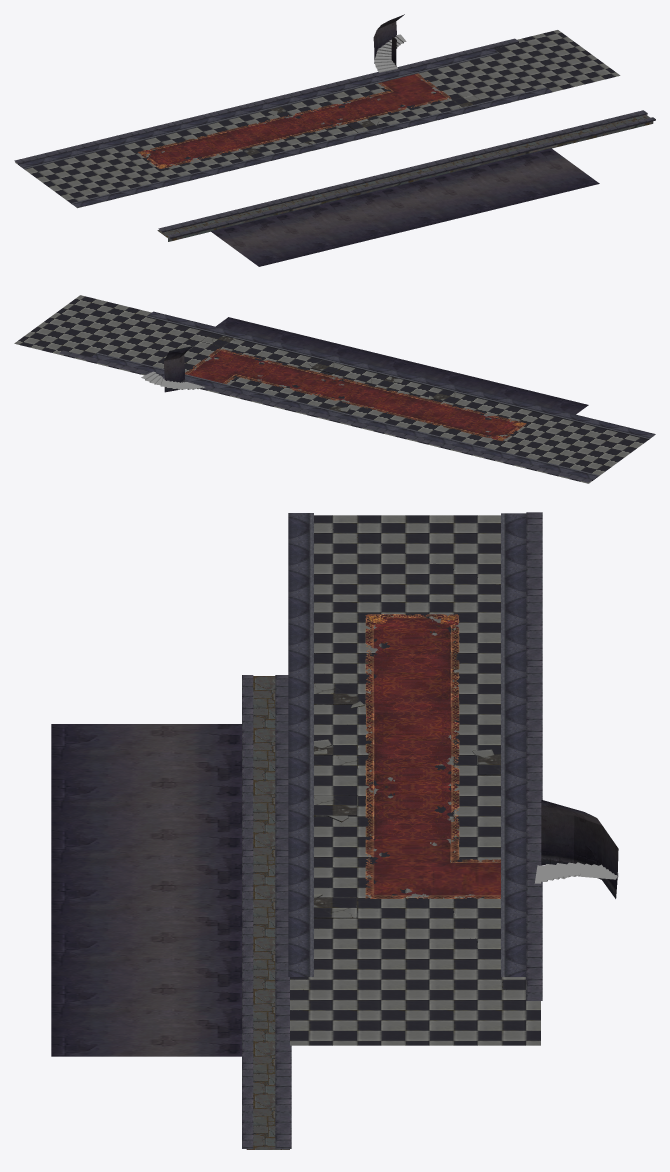
Rendered from terrain_section02_guanka02_b.FBX.
3 renders of one model, top to bottom at view 1: azimuth 30°, elevation 25°; view 2: azimuth 150°, elevation 25°; view 3: azimuth 270°, elevation 25°, orthographic. The views are drawn at different scales.
Visible parts, largest first — view 1: terrain_section02_guanka02_b; view 2: terrain_section02_guanka02_b; view 3: terrain_section02_guanka02_b.
Boxes of the visible parts, bbox=[...] form: terrain_section02_guanka02_b: bbox=[14, 14, 655, 266]; terrain_section02_guanka02_b: bbox=[14, 295, 655, 483]; terrain_section02_guanka02_b: bbox=[51, 512, 618, 1149].
Bounding box in the file's own units: 101 × 43.92 × 14.55.
